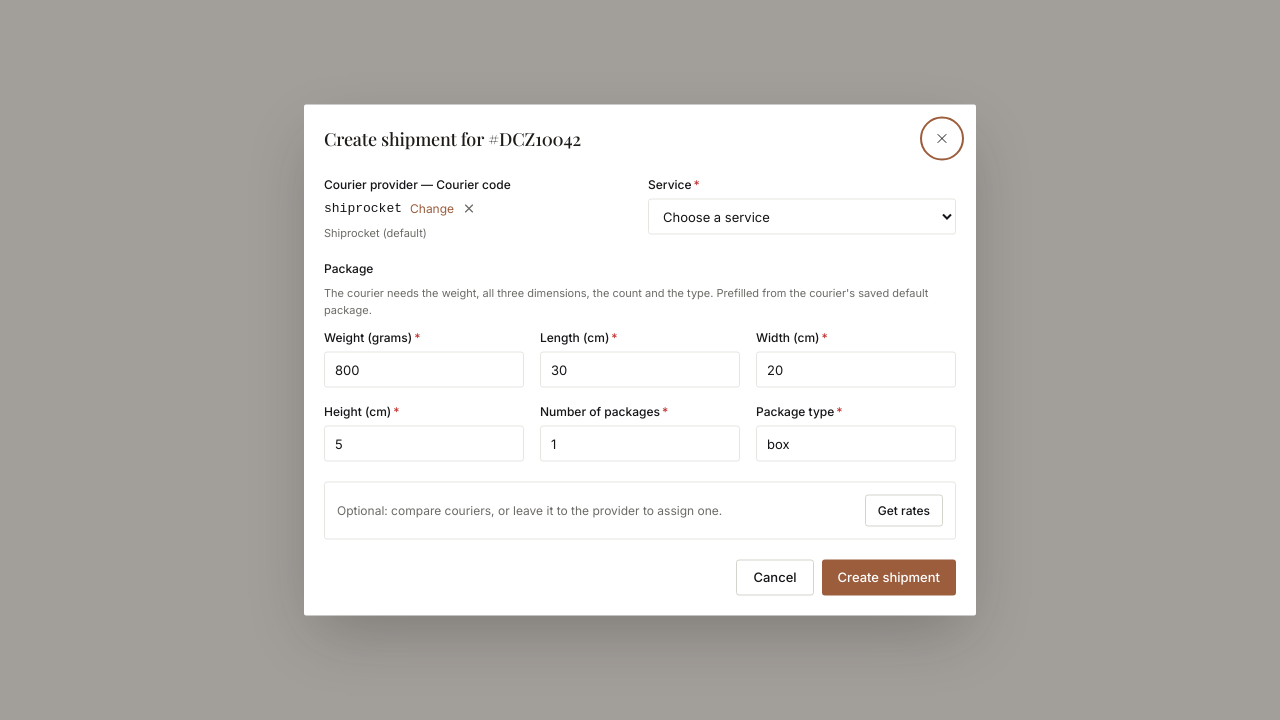
Test: CreateShipmentDialog › the form › shows package range errors
Select "Surface" in the dropdown labelled "Service*": coordinates (802, 216) [648,198,956,234]
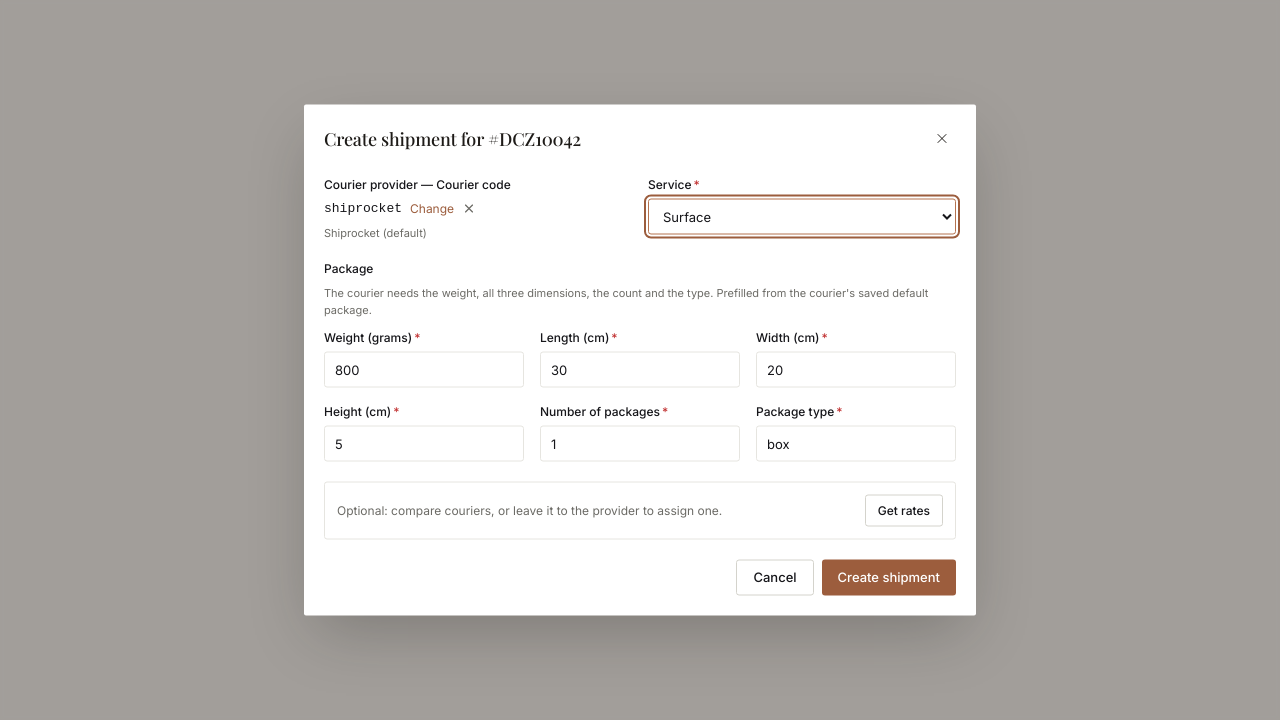
Replace the text in the field labelled "Height (cm)*" with "400": coordinates (424, 444) [324,426,524,462]
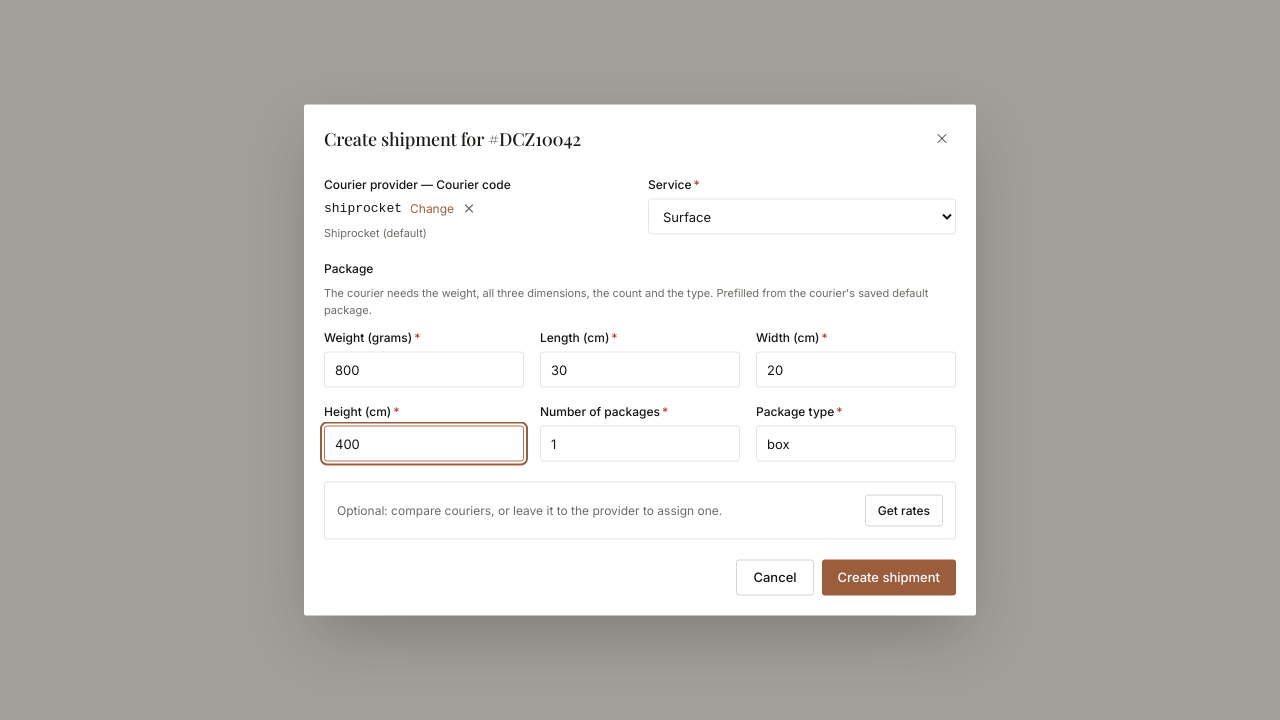
Replace the text in the field labelled "Weight (grams)*" with "0.5": coordinates (424, 370) [324,352,524,388]
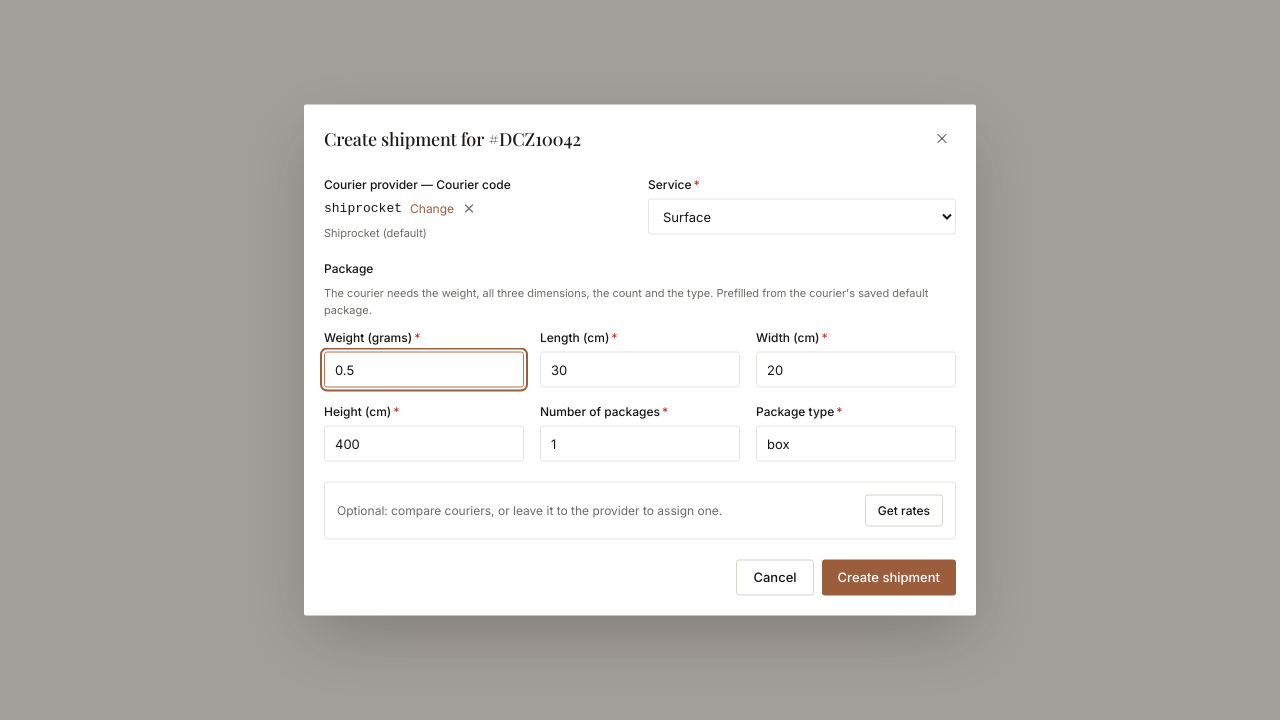
Click the button "Create shipment": coordinates (889, 578) [822,560,956,596]
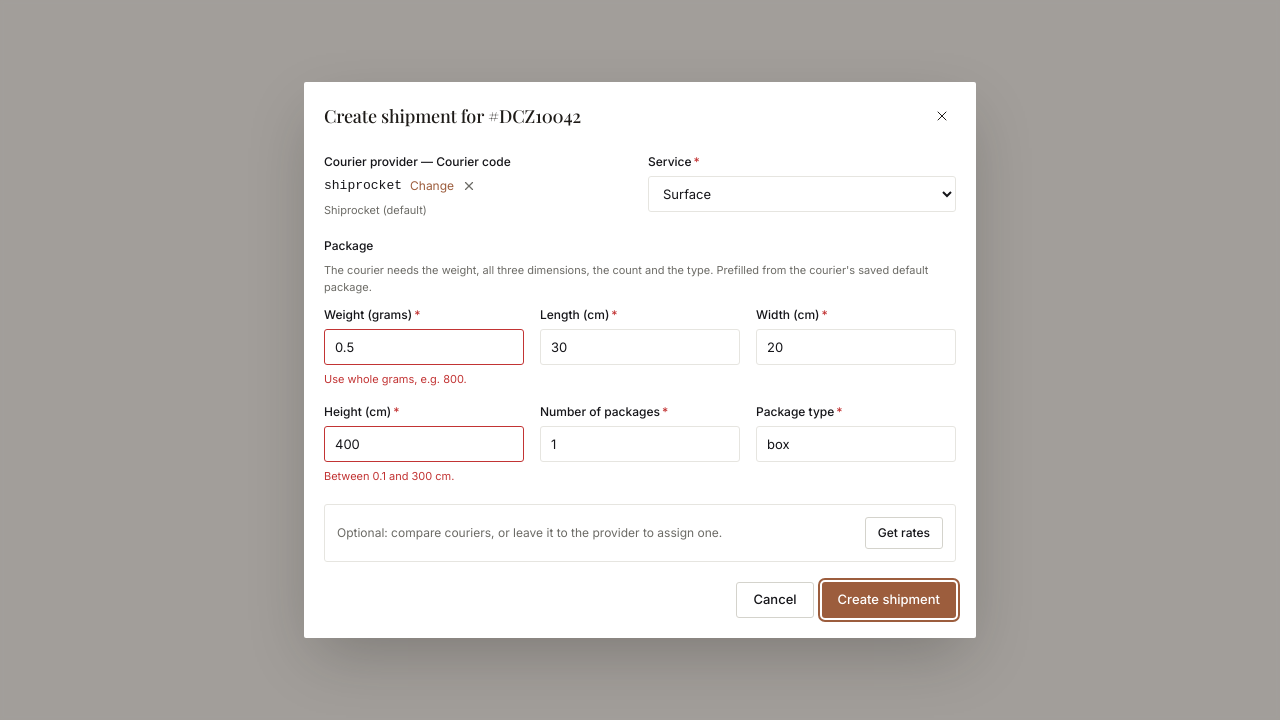
Now the text "Between 0.1 and 300 cm." is shown, box [324,468,454,482]
Now the text "Use whole grams, e.g. 800." is shown, box [324,372,467,386]
